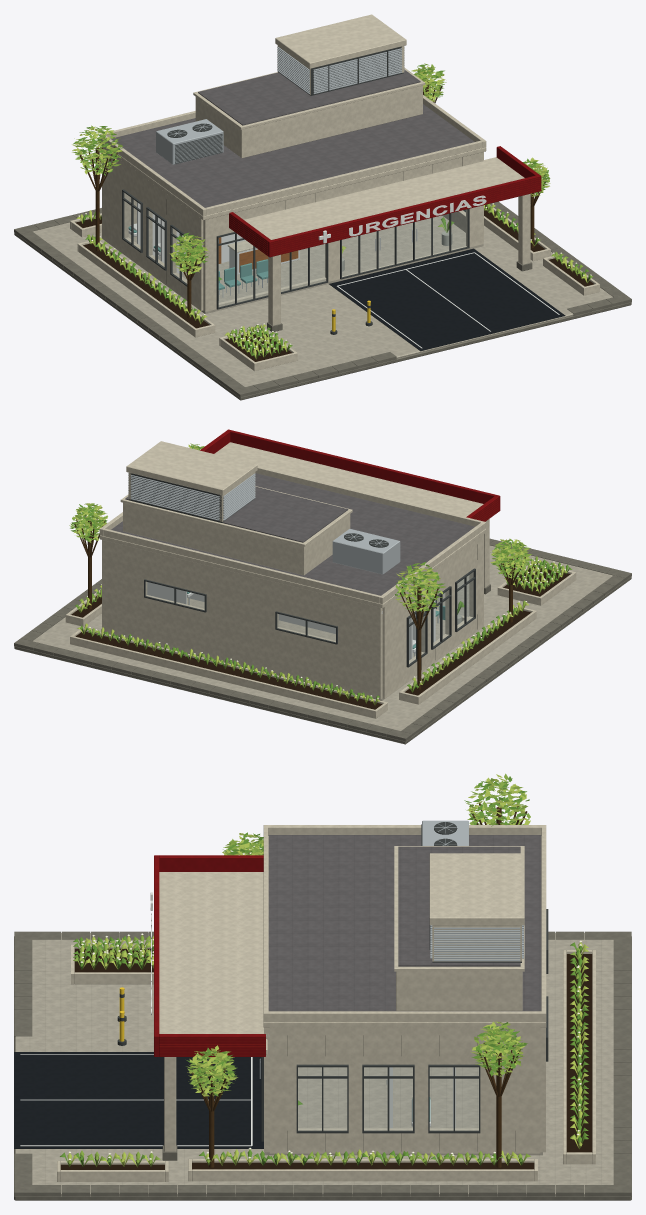
File: urgencias.fbx
3 renders of one model, top to bottom at view 1: azimuth 30°, elevation 25°; view 2: azimuth 150°, elevation 25°; view 3: azimuth 270°, elevation 25°, orthographic. The views are drawn at different scales.
Parts seen in each view (by area): view 1: Centro_Urgencias, Areas_Exteriores; view 2: Centro_Urgencias, Areas_Exteriores; view 3: Centro_Urgencias, Areas_Exteriores.
Boxes of the visible parts, x1,y1,x2,y2 form: Centro_Urgencias: (99,14,541,331); Areas_Exteriores: (14,63,631,400); Centro_Urgencias: (99,429,500,700); Areas_Exteriores: (14,443,631,744); Centro_Urgencias: (150,820,548,1160); Areas_Exteriores: (14,773,631,1200).
Size of the model in its own units: 2000 by 839 by 2000.
Materials: 22 (11 with a texture image).
